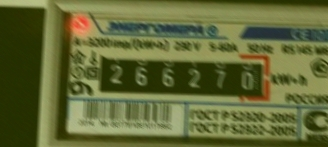0: (239, 69, 252, 90)
2: (108, 62, 122, 83), (186, 66, 199, 88)
6: (133, 65, 147, 85), (159, 66, 173, 86)
7: (211, 67, 225, 89)
screen: (88, 43, 277, 108)
